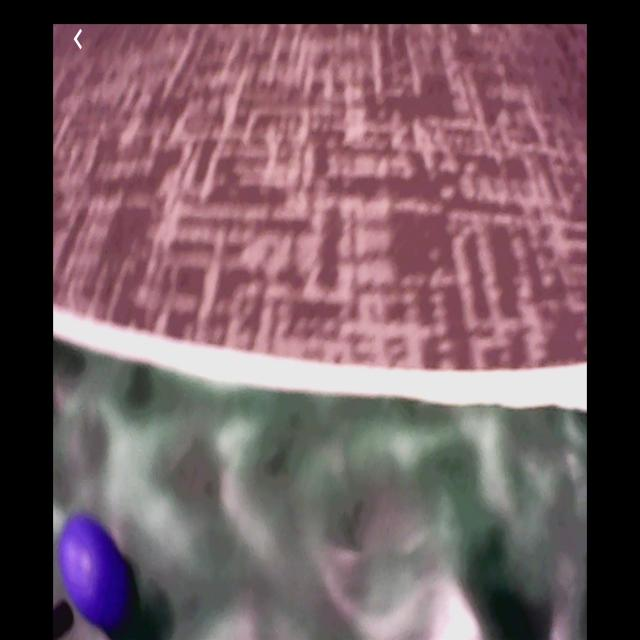ball: (62, 514, 129, 624)
